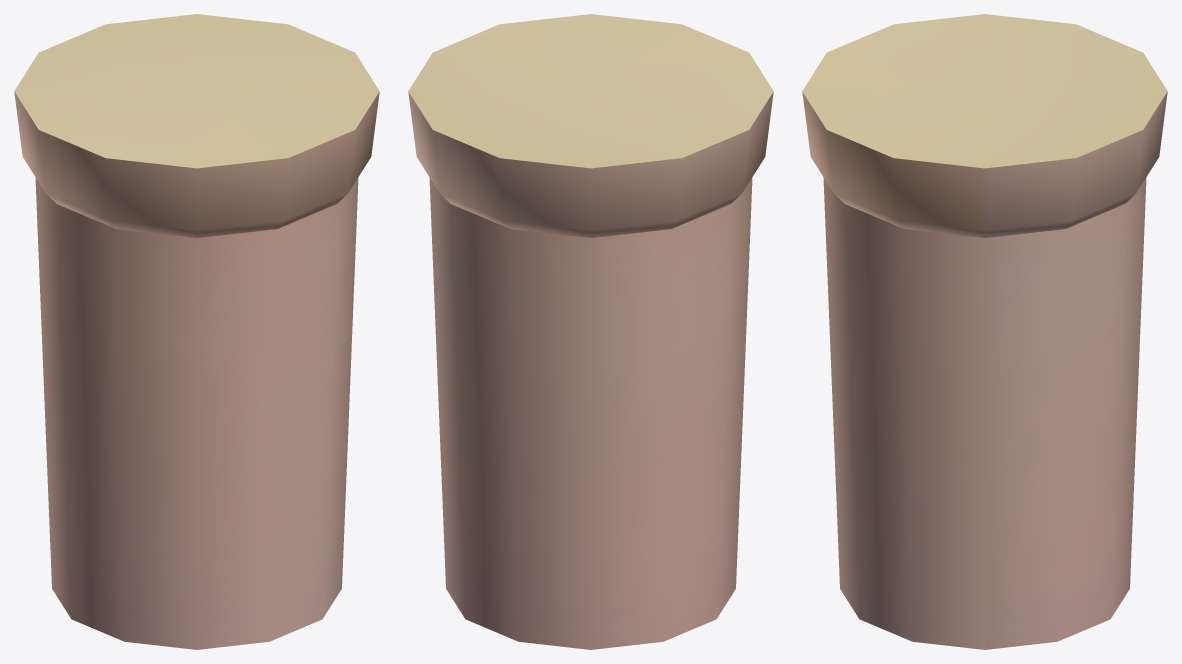
Rendered from SM_drink_tea_05.fbx.
3 views of the same model, side by side, from view 1: azimuth 30°, elevation 25°; view 2: azimuth 150°, elevation 25°; view 3: azimuth 270°, elevation 25° (orthographic).
Visible parts, largest first — view 1: Cylinder063; view 2: Cylinder063; view 3: Cylinder063.
Boxes of the visible parts, x1,y1,x2,y2 form: Cylinder063: [14, 14, 379, 649]; Cylinder063: [408, 14, 773, 649]; Cylinder063: [802, 14, 1167, 649].
Bounding box in the file's own units: 10.24 × 15.37 × 10.24.
